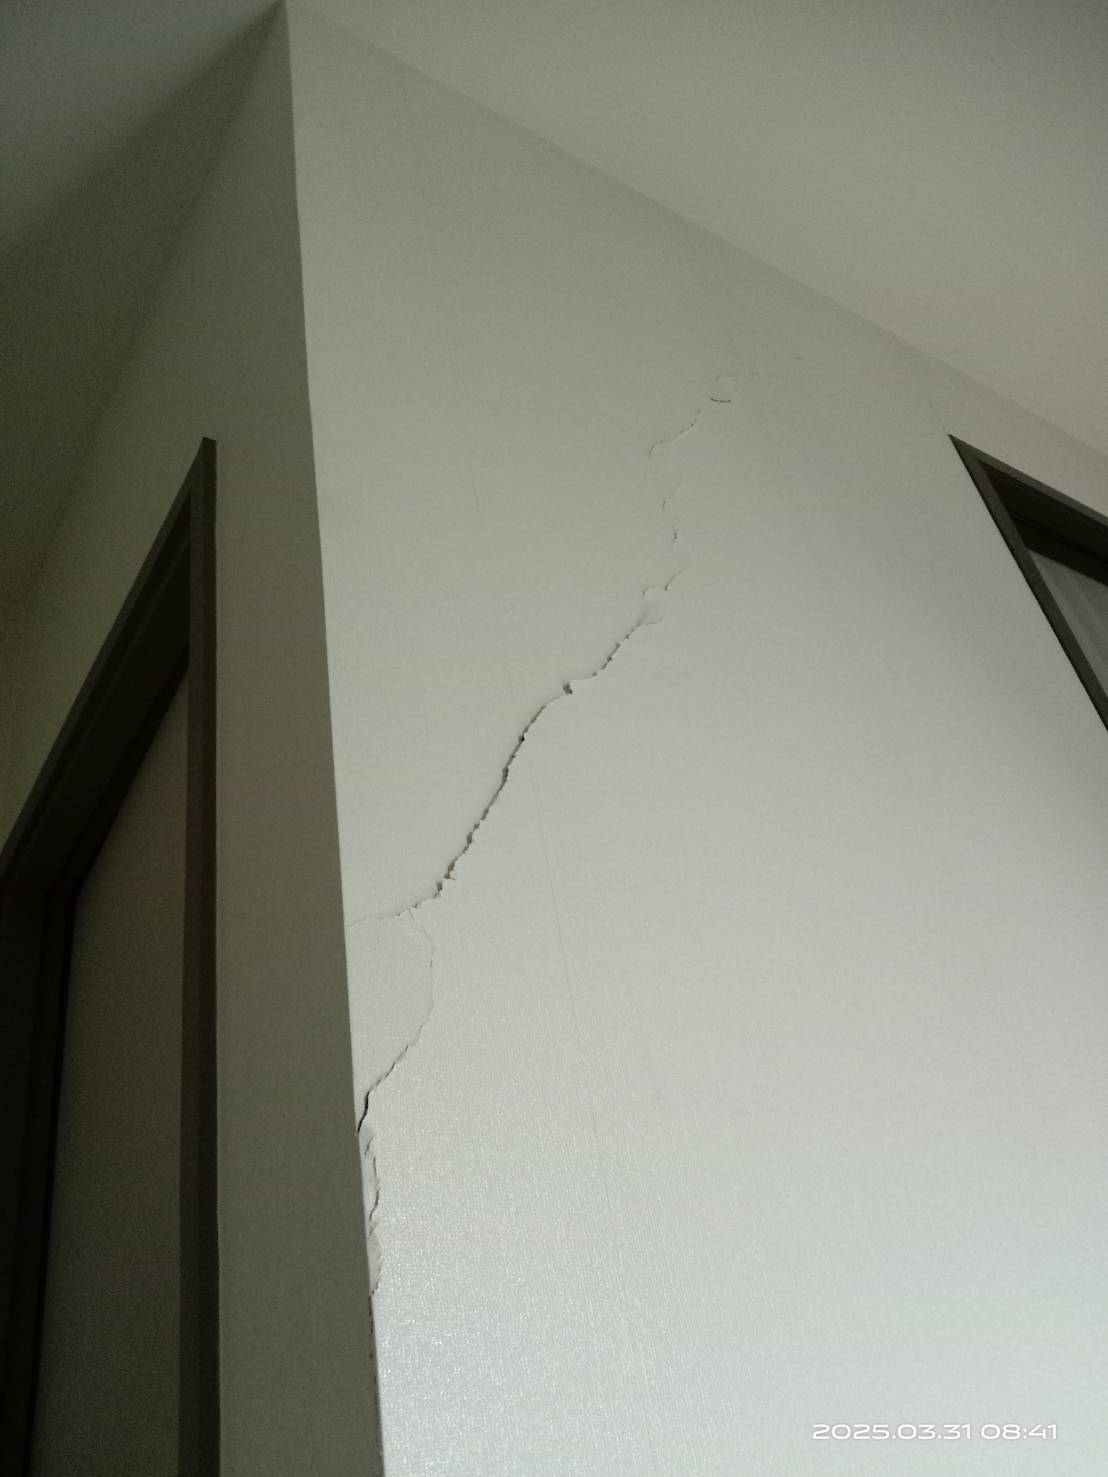Low: (320, 334, 832, 1313)
